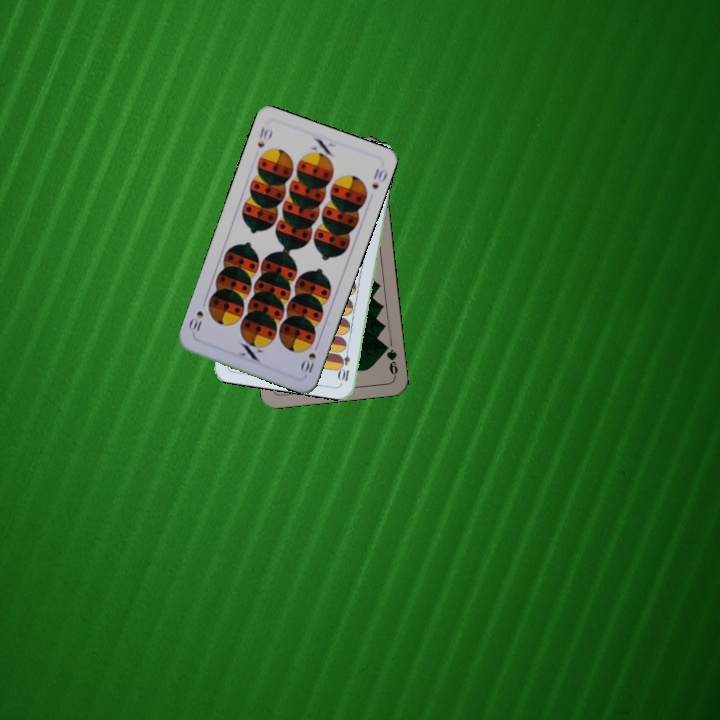E10: (336, 343, 353, 384)
G9: (380, 340, 400, 379)
S10: (297, 339, 322, 376), (253, 123, 275, 150)
